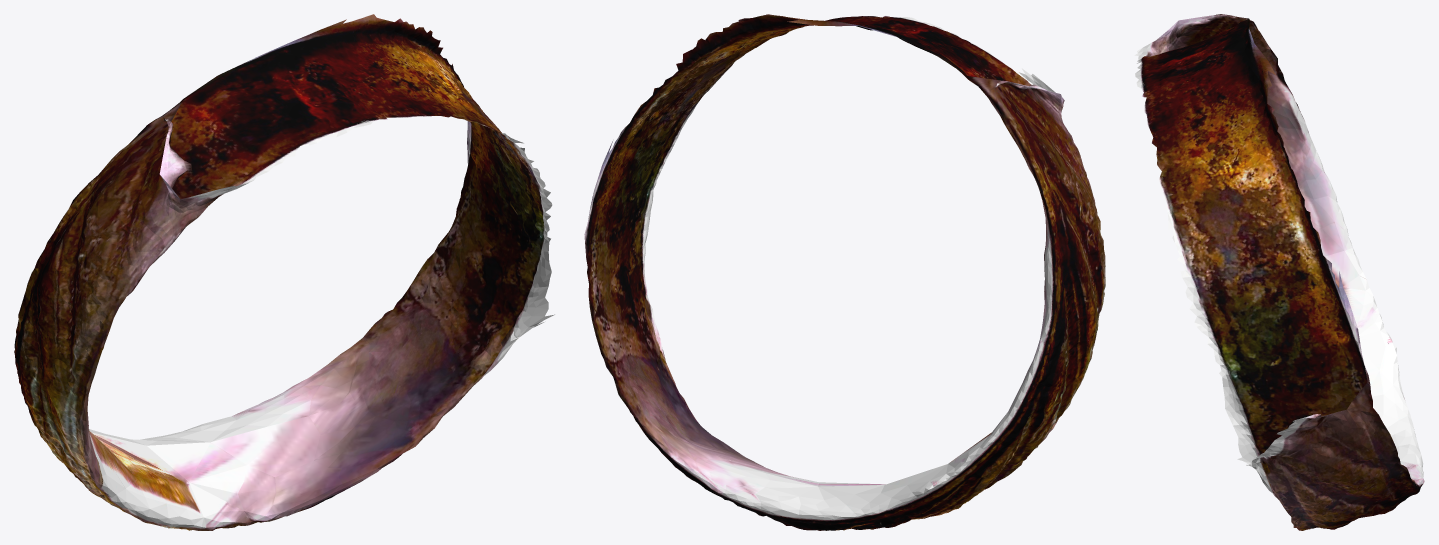
File: 9_bracelet.gltf
3 views of the same model, side by side, from view 1: azimuth 30°, elevation 25°; view 2: azimuth 150°, elevation 25°; view 3: azimuth 270°, elevation 25° (orthographic). The views are drawn at different scales.
Visible parts, largest first — view 1: model_New Qlone_20240225_114643939; view 2: model_New Qlone_20240225_114643939; view 3: model_New Qlone_20240225_114643939.
Boxes of the visible parts, x1,y1,x2,y2 form: model_New Qlone_20240225_114643939: [14, 14, 554, 530]; model_New Qlone_20240225_114643939: [584, 14, 1105, 530]; model_New Qlone_20240225_114643939: [1134, 14, 1424, 530].
Bounding box in the file's own units: 3.12 × 2.92 × 1.67.
